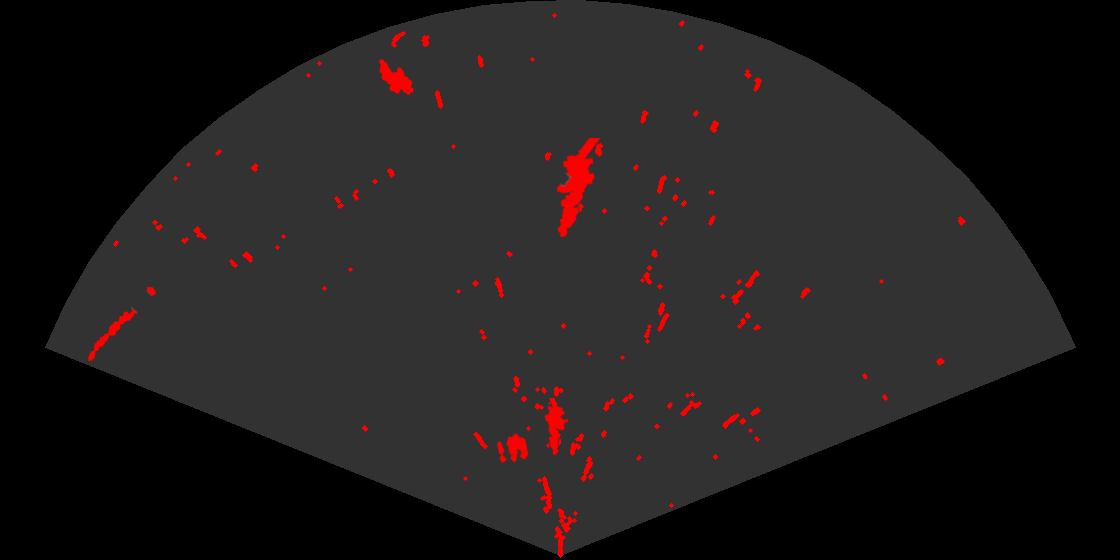AUV: (377, 58, 415, 97)
ball: (495, 432, 530, 465)
chain: (86, 285, 158, 363)
frogman: (555, 138, 602, 239), (543, 398, 570, 457)
